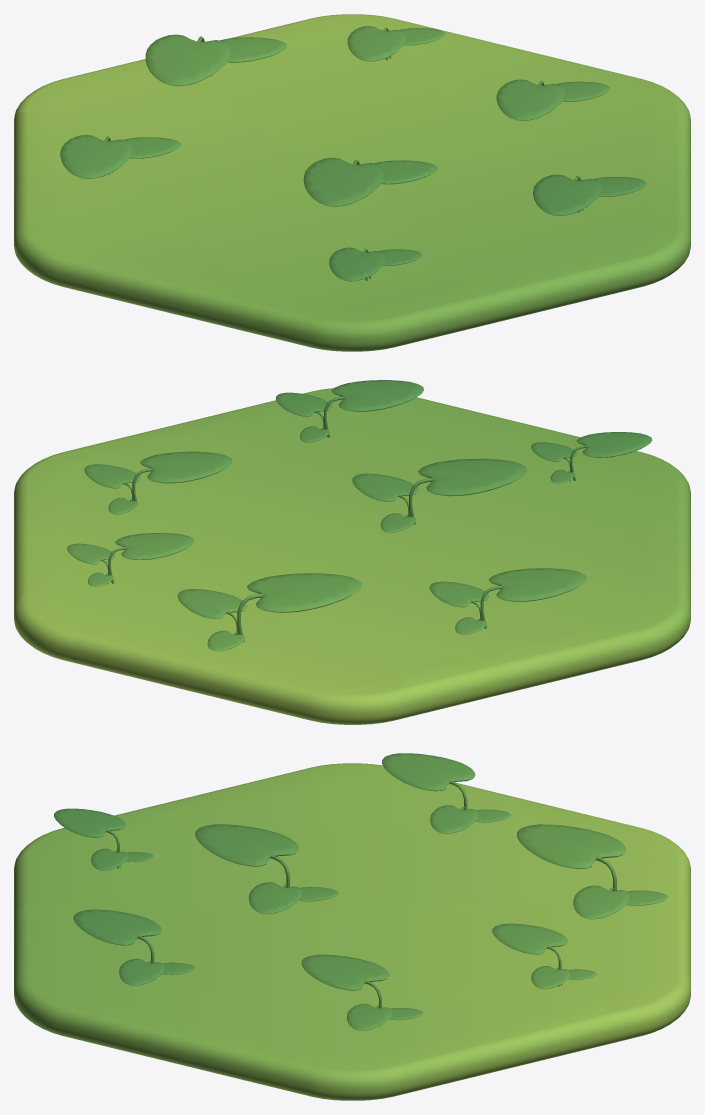
File: Grass each leaf seperate.fbx
The picture shows the model from 3 angles, top to bottom: view 1: azimuth 30°, elevation 25°; view 2: azimuth 150°, elevation 25°; view 3: azimuth 270°, elevation 25°; orthographic projection.
Visible parts, largest first — view 1: NurbsPath.013, NurbsPath.006, NurbsPath.007, NurbsPath.008, NurbsPath.009, NurbsPath.010, NurbsPath.002, NurbsPath.004, NurbsPath.014, NurbsPath.033, NurbsPath.030, NurbsPath.005 (+7 smaller); view 2: NurbsPath.013, NurbsPath.004, NurbsPath.006, NurbsPath.009, NurbsPath.007, NurbsPath.002, NurbsPath.008, NurbsPath.014, NurbsPath.010, NurbsPath.033, NurbsPath.030, NurbsPath.034 (+7 smaller); view 3: NurbsPath.006, NurbsPath.007, NurbsPath.013, NurbsPath.009, NurbsPath.004, NurbsPath.002, NurbsPath.008, NurbsPath.014, NurbsPath.003, NurbsPath.010, NurbsPath.033, NurbsPath.030 (+7 smaller).
Boxes of the visible parts, x1,y1,x2,y2 form: NurbsPath.013: (14, 111, 249, 300); NurbsPath.006: (438, 48, 690, 201); NurbsPath.007: (466, 160, 690, 316); NurbsPath.008: (268, 211, 499, 351); NurbsPath.009: (278, 144, 519, 322); NurbsPath.010: (117, 200, 277, 336); NurbsPath.002: (285, 14, 437, 143); NurbsPath.004: (19, 22, 295, 135); NurbsPath.014: (14, 101, 284, 199); NurbsPath.033: (145, 34, 286, 86); NurbsPath.030: (303, 157, 437, 206); NurbsPath.005: (348, 92, 465, 159); NurbsPath.013: (396, 563, 690, 719); NurbsPath.004: (70, 597, 379, 724); NurbsPath.006: (14, 411, 278, 552); NurbsPath.009: (278, 421, 541, 560); NurbsPath.007: (230, 388, 515, 504); NurbsPath.002: (14, 550, 313, 663); NurbsPath.008: (477, 428, 690, 547); NurbsPath.014: (330, 561, 467, 723); NurbsPath.010: (468, 502, 690, 584); NurbsPath.033: (177, 573, 362, 651); NurbsPath.030: (352, 458, 527, 532); NurbsPath.034: (429, 568, 586, 634); NurbsPath.006: (139, 967, 522, 1100); NurbsPath.007: (14, 918, 302, 1055); NurbsPath.013: (253, 763, 634, 863); NurbsPath.009: (14, 869, 404, 961); NurbsPath.004: (453, 832, 690, 983); NurbsPath.002: (405, 909, 690, 1038); NurbsPath.008: (14, 821, 301, 917); NurbsPath.014: (339, 826, 654, 908); NurbsPath.003: (466, 987, 636, 1065); NurbsPath.010: (114, 782, 338, 868); NurbsPath.033: (517, 824, 668, 919); NurbsPath.030: (195, 824, 338, 914).
Size of the model in its own units: 36.04 by 4.01 by 32.47.
